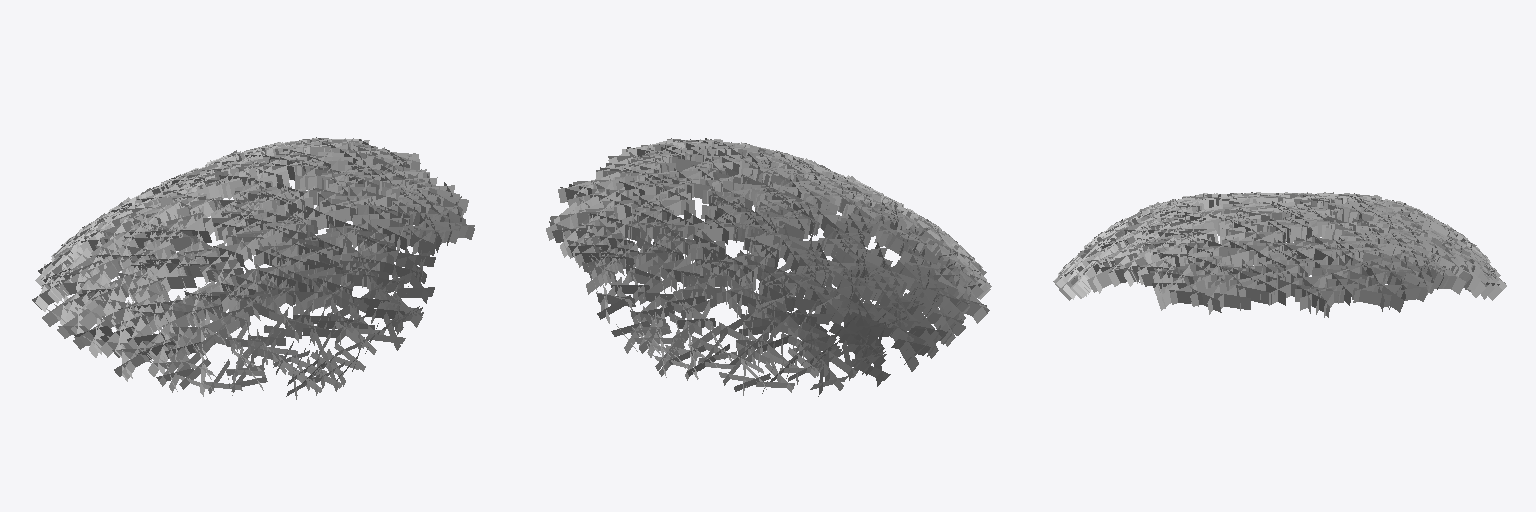
The model's file is sm_05x_hillCliff_2grass.OBJ.
3 views of the same model, side by side, from view 1: azimuth 30°, elevation 25°; view 2: azimuth 150°, elevation 25°; view 3: azimuth 270°, elevation 25° (orthographic).
Parts seen in each view (by area): view 1: ZBrushPolyMesh3D; view 2: ZBrushPolyMesh3D; view 3: ZBrushPolyMesh3D.
Boxes of the visible parts, x1,y1,x2,y2 form: ZBrushPolyMesh3D: [32, 137, 474, 399]; ZBrushPolyMesh3D: [546, 138, 991, 396]; ZBrushPolyMesh3D: [1053, 192, 1506, 317].
Bounding box in the file's own units: 2.39 × 0.662 × 2.53.